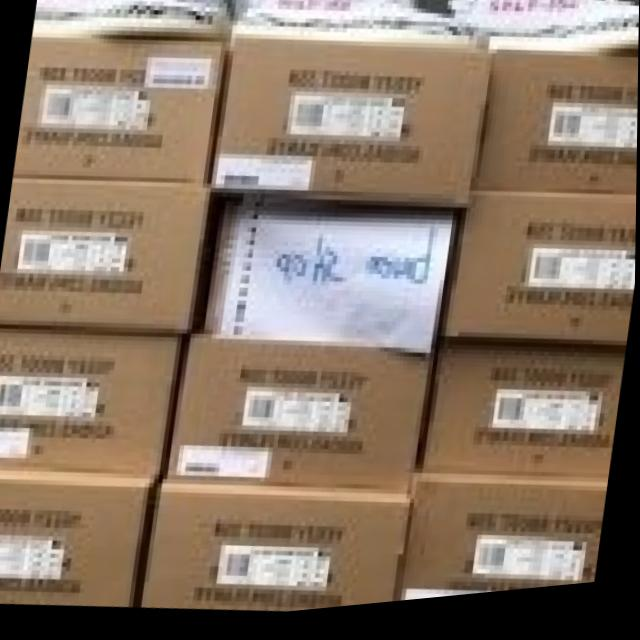box: (211, 38, 493, 217), (168, 337, 430, 498), (142, 482, 408, 617), (0, 178, 216, 337), (13, 37, 226, 183), (442, 200, 637, 358), (420, 353, 627, 494), (0, 328, 178, 478), (402, 481, 609, 609), (474, 59, 639, 208), (0, 471, 160, 610)
